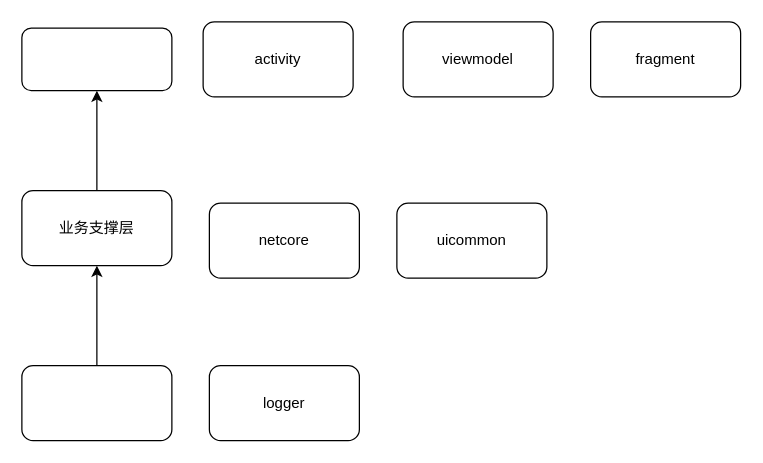
This 763x463 diagram has some shape labels left out. Here are the shapes that lost their labels. From the top down, the centre of each, then its label:
the point at 96,59: APP UI 层
the point at 96,402: 基础功能层
